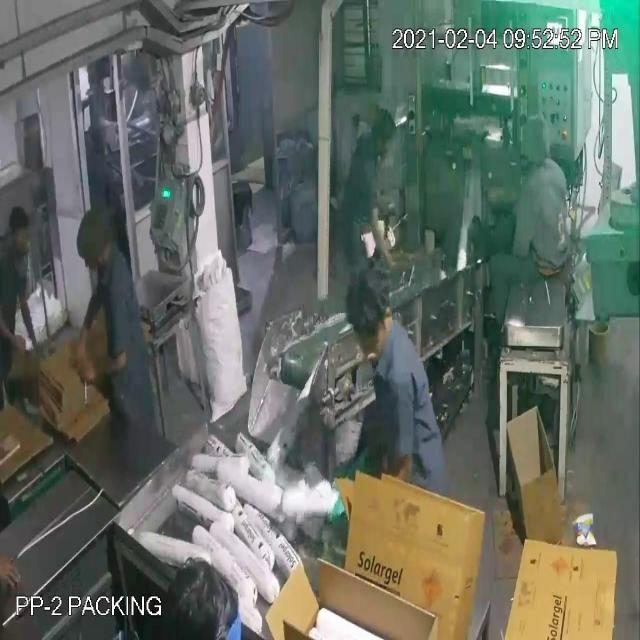No_Gloves: (17, 69, 380, 360)
